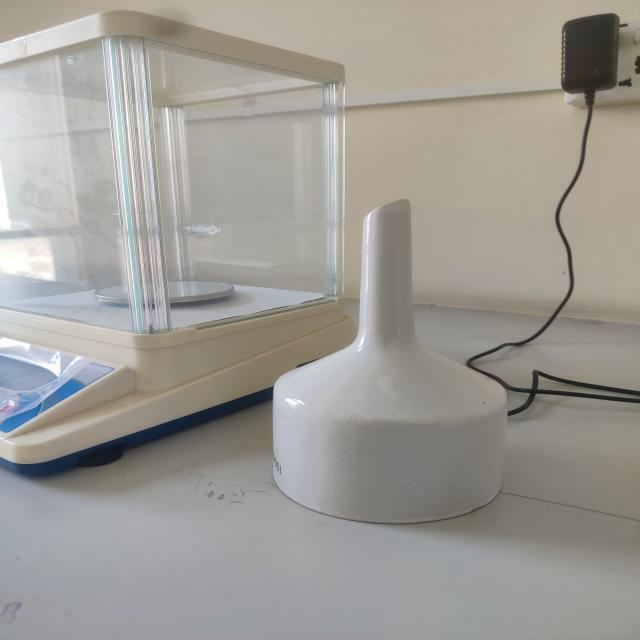Buchner_Funnel: (233, 173, 543, 555)
